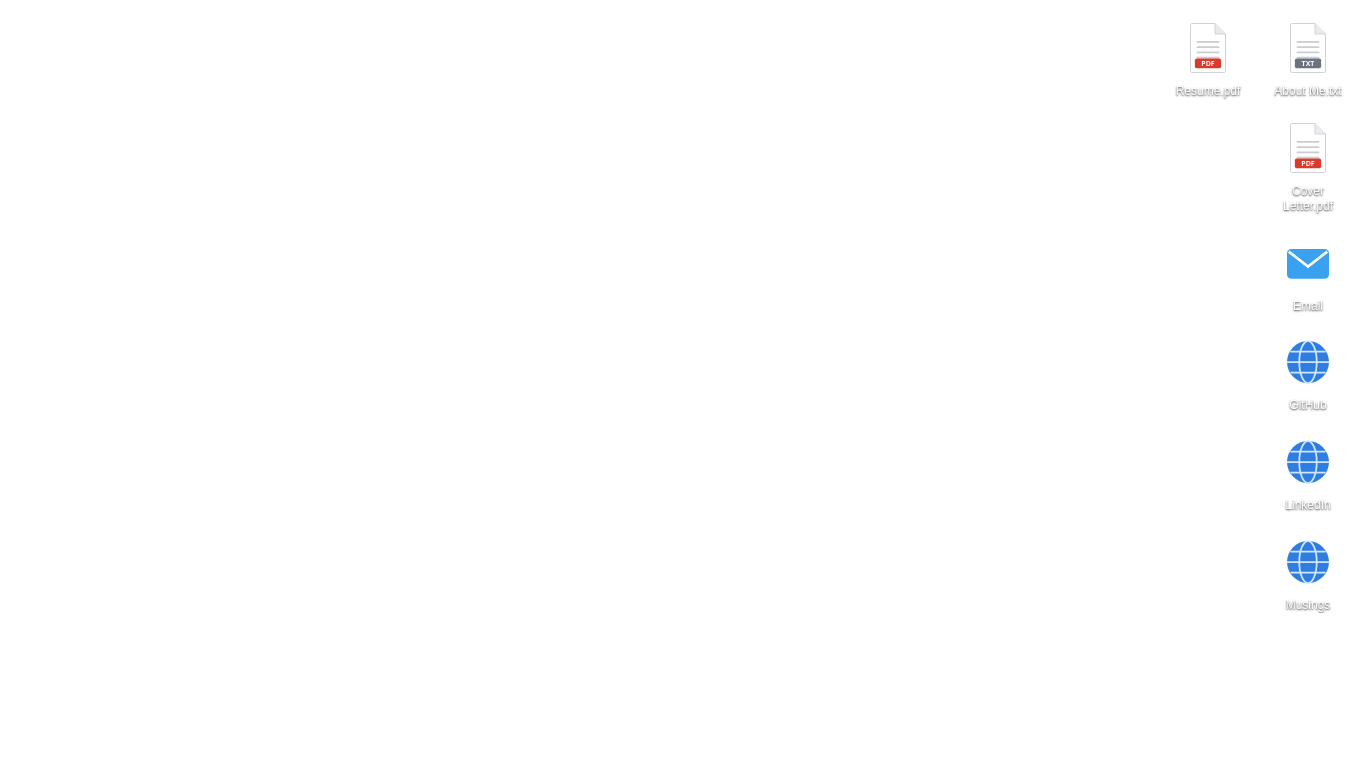
DesktopSurface › creates a new folder from the empty-space menu
Check: the button "TXT About Me.txt" is shown, box left=1262, top=12, right=1354, bottom=104
Right-click the element with test id "desktop-surface" at coordinates (1258, 315), box left=1162, top=12, right=1354, bottom=617
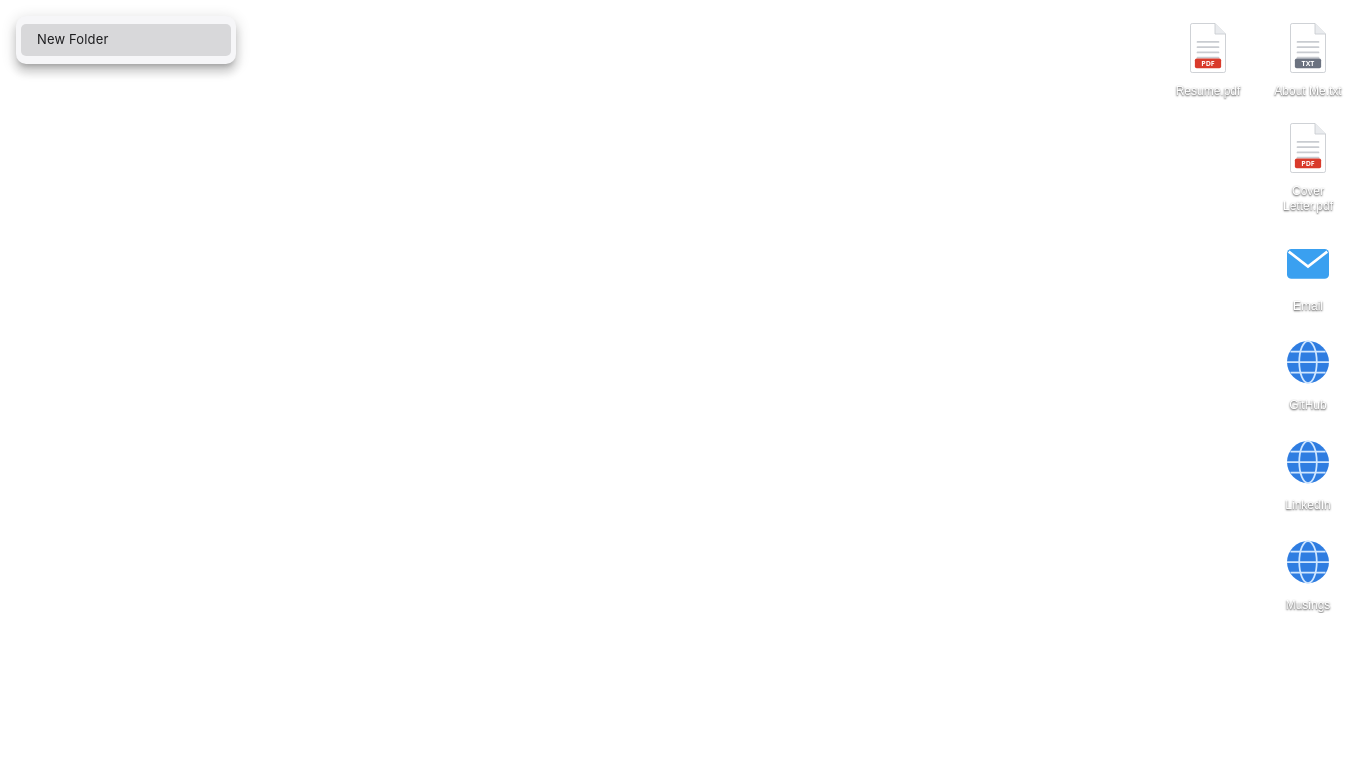
Click the menu item "New Folder" at coordinates (126, 40), box left=21, top=24, right=231, bottom=56
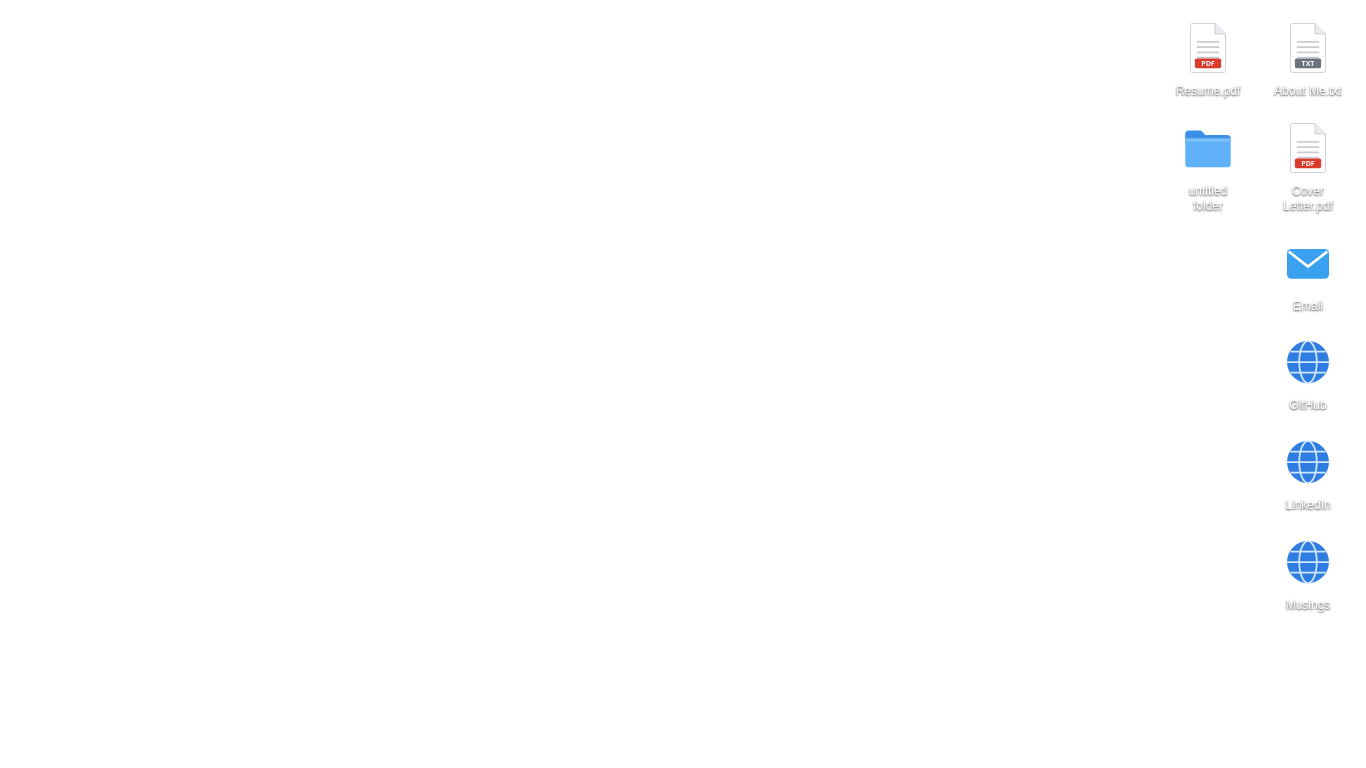
Check: the button "untitled folder" is shown, box left=1162, top=112, right=1254, bottom=219
